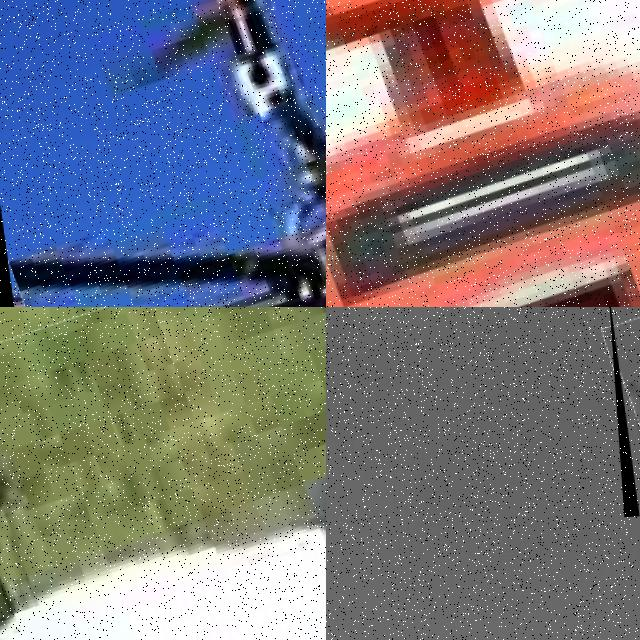drone: (0, 307, 326, 640), (0, 0, 326, 307), (326, 0, 640, 307)
